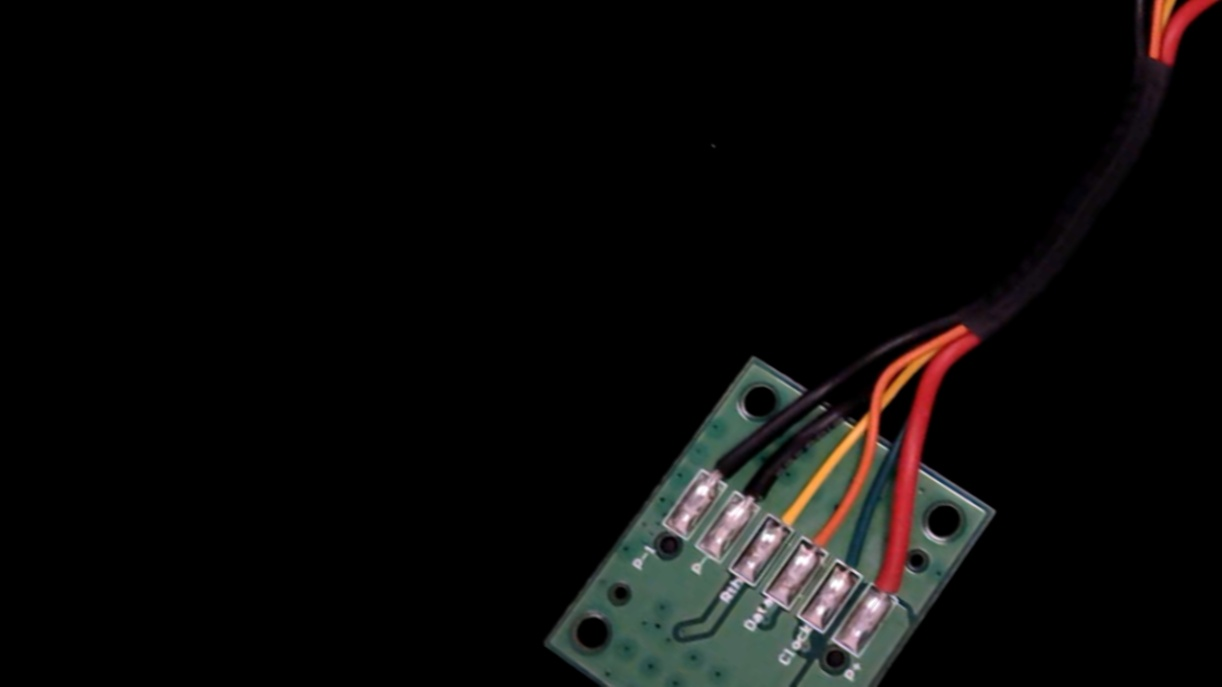Black: (725, 448, 795, 524)
Black1: (688, 422, 761, 499)
Green: (823, 520, 892, 594)
Orange: (791, 499, 858, 571)
Red: (858, 536, 933, 619)
Yellow: (759, 473, 824, 545)
